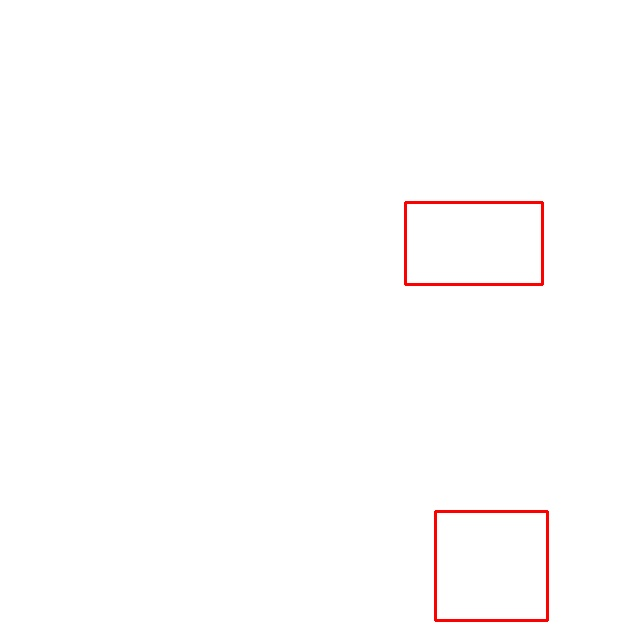weapon: (435, 511, 548, 621), (405, 203, 542, 284)
